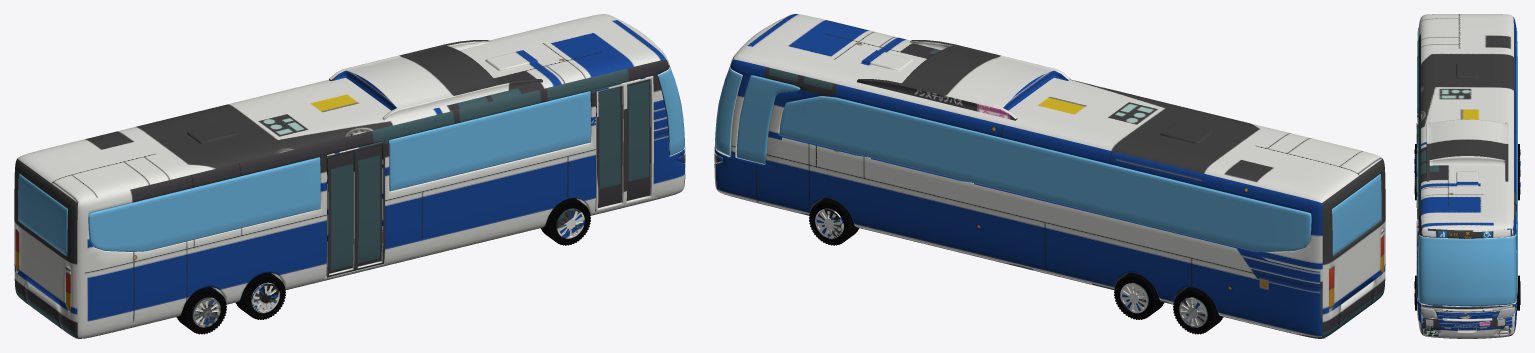
The picture shows the model from 3 angles, left to right: view 1: azimuth 30°, elevation 25°; view 2: azimuth 150°, elevation 25°; view 3: azimuth 270°, elevation 25°; orthographic projection. The views are drawn at different scales.
Parts seen in each view (by area): view 1: Body, Glass, Door, Wheels; view 2: Body, Glass, Wheels; view 3: Body, Glass, Wheels, Door, Light_Front.
Part boxes in pixels (left/top/right/bottom): Body: left=14, top=14, right=685, bottom=338; Glass: left=18, top=66, right=684, bottom=255; Door: left=326, top=76, right=653, bottom=277; Wheels: left=176, top=198, right=590, bottom=334; Body: left=714, top=14, right=1385, bottom=338; Glass: left=715, top=66, right=1381, bottom=255; Wheels: left=809, top=198, right=1223, bottom=334; Body: left=1417, top=14, right=1517, bottom=338; Glass: left=1417, top=28, right=1517, bottom=305; Wheels: left=1414, top=144, right=1520, bottom=310; Door: left=1416, top=113, right=1418, bottom=320; Light_Front: left=1418, top=306, right=1516, bottom=318.
Size of the model in its own units: 0.9448 by 0.2545 by 0.1877.
3 materials, 1 textured.
